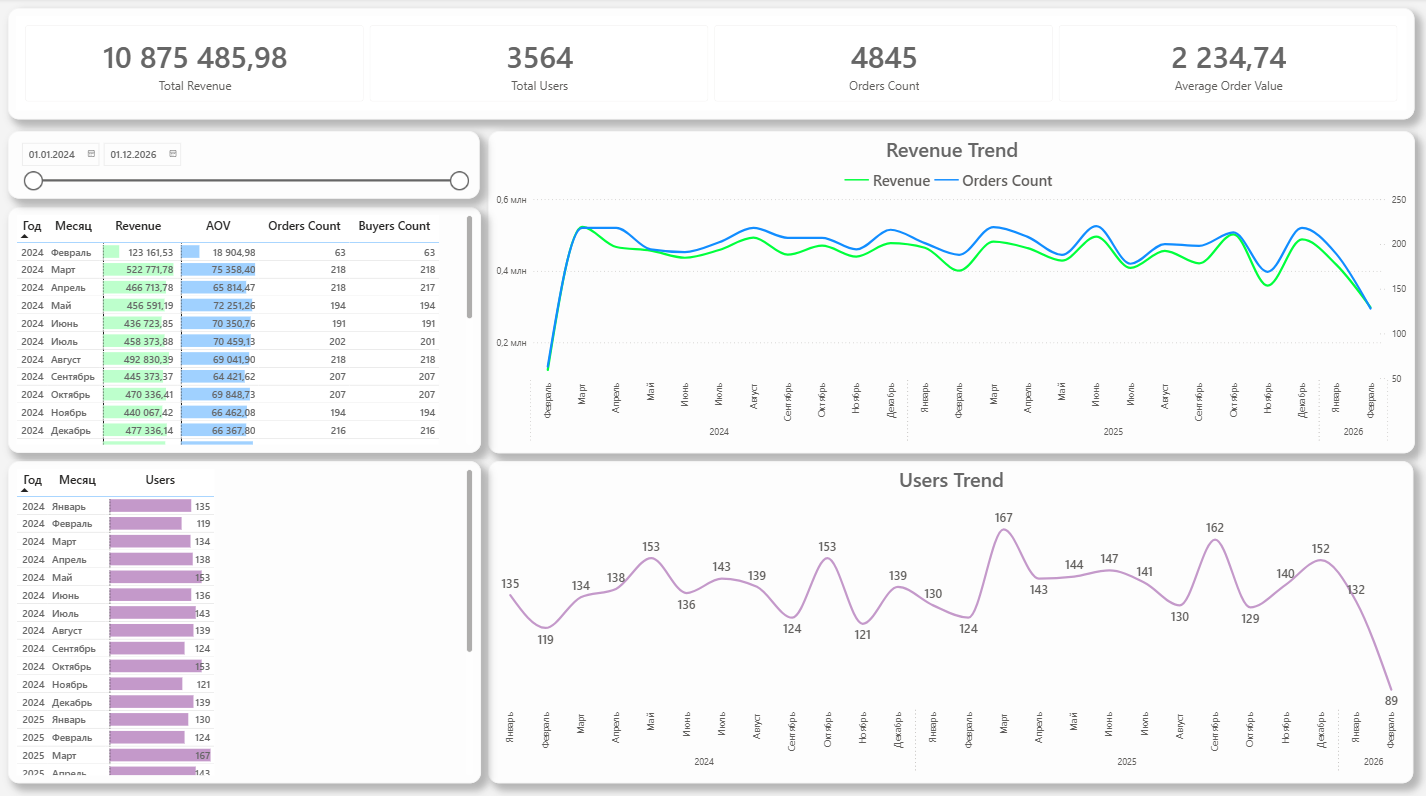

The dashboard page shown, as its layout file describes it:
{"tool":"powerbi","page":{"name":"Total Revenue Trend","canvas":[1920,1080],"ordinal":0},"visuals":[{"type":"cardVisual","fields":{"Data":["Sum(mart revenue_trend_month.revenue)","Sum(mart users_kpi.user_count)","Sum(mart revenue_trend_month.orders_count)","Avg(mart revenue_trend_month.average_order_value)"]},"box":[10.7,13.7,1894,149.7],"z":0},{"type":"lineChart","title":"Revenue Trend","fields":{"Y":["Sum(mart revenue_trend_month.revenue)"],"Y2":["Sum(mart revenue_trend_month.orders_count)"],"Category":["dim_month.month_start.Изменение.Иерархия дат.Год","dim_month.month_start.Изменение.Иерархия дат.Месяц"]},"box":[656.8,178.7,1247.9,434],"z":1000},{"type":"tableEx","fields":{"Values":["dim_month.month_start.Изменение.Иерархия дат.Год","dim_month.month_start.Изменение.Иерархия дат.Месяц","Sum(mart revenue_trend_month.revenue)","Sum(mart revenue_trend_month.average_order_value)","Sum(mart revenue_trend_month.orders_count)","Sum(mart revenue_trend_month.buyers_count)"]},"box":[10.7,281.1,636.9,331.5],"z":2000},{"type":"slicer","fields":{"Values":["dim_month.month_start"]},"box":[10.8,178.5,635.4,90.8],"z":3000},{"type":"lineChart","title":"Users Trend","fields":{"Y":["Sum(mart users_kpi.user_count)"],"Category":["dim_month.month_start.Изменение.Иерархия дат.Год","dim_month.month_start.Изменение.Иерархия дат.Месяц"]},"box":[656.8,623.2,1246.4,433.8],"z":4000},{"type":"tableEx","fields":{"Values":["dim_month.month_start.Изменение.Иерархия дат.Год","dim_month.month_start.Изменение.Иерархия дат.Месяц","Sum(mart users_kpi.user_count)"]},"box":[10.7,623.2,636.9,433.8],"z":5000}]}

Visuals, with their boxes in screenshot pixels (x1, y1, x2, y2), scaled from the page's 1920x1080 canvas onto the 1426x796 screenshot:
cardVisual - Sum(mart revenue_trend_month.revenue) x Sum(mart users_kpi.user_count): <bbox>8, 10, 1415, 120</bbox>
"Revenue Trend" lineChart: <bbox>488, 132, 1415, 452</bbox>
tableEx - dim_month.month_start.Изменение.Иерархия дат.Год x dim_month.month_start.Изменение.Иерархия дат.Месяц: <bbox>8, 207, 481, 452</bbox>
slicer - dim_month.month_start: <bbox>8, 132, 480, 198</bbox>
"Users Trend" lineChart: <bbox>488, 459, 1414, 779</bbox>
tableEx - dim_month.month_start.Изменение.Иерархия дат.Год x dim_month.month_start.Изменение.Иерархия дат.Месяц: <bbox>8, 459, 481, 779</bbox>
